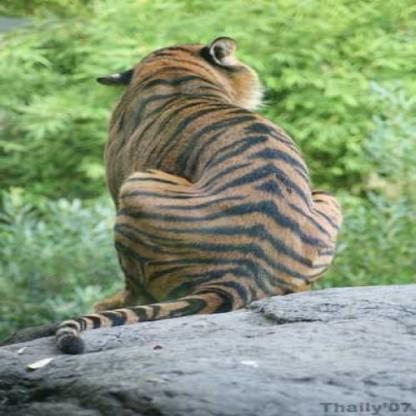Tiger: (60, 23, 355, 328)
